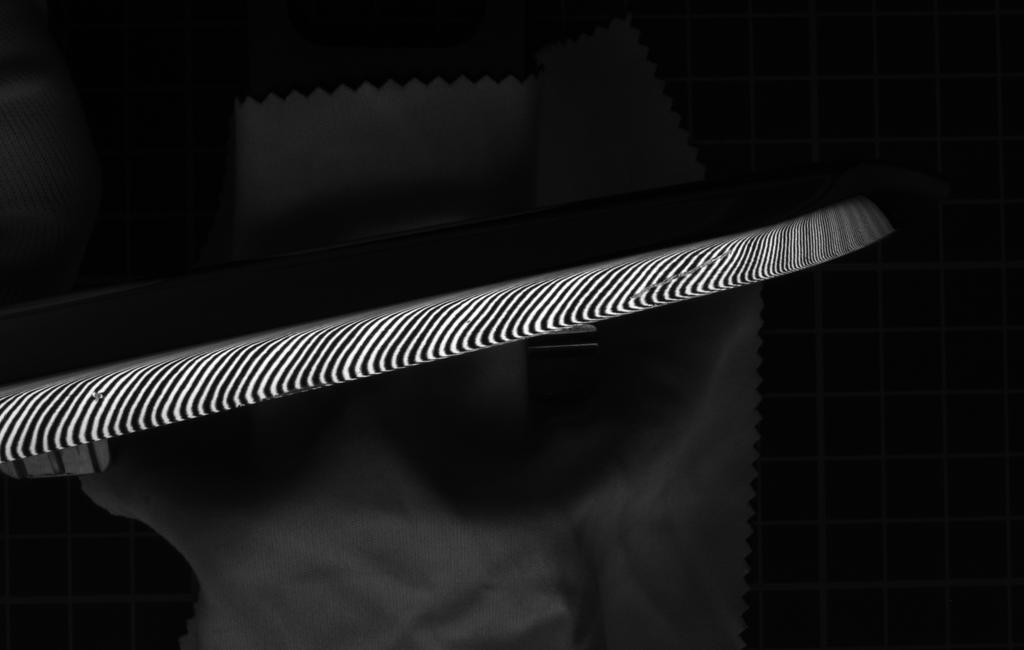Pierced: (86, 386, 110, 406)
Scratch: (625, 243, 750, 306)
